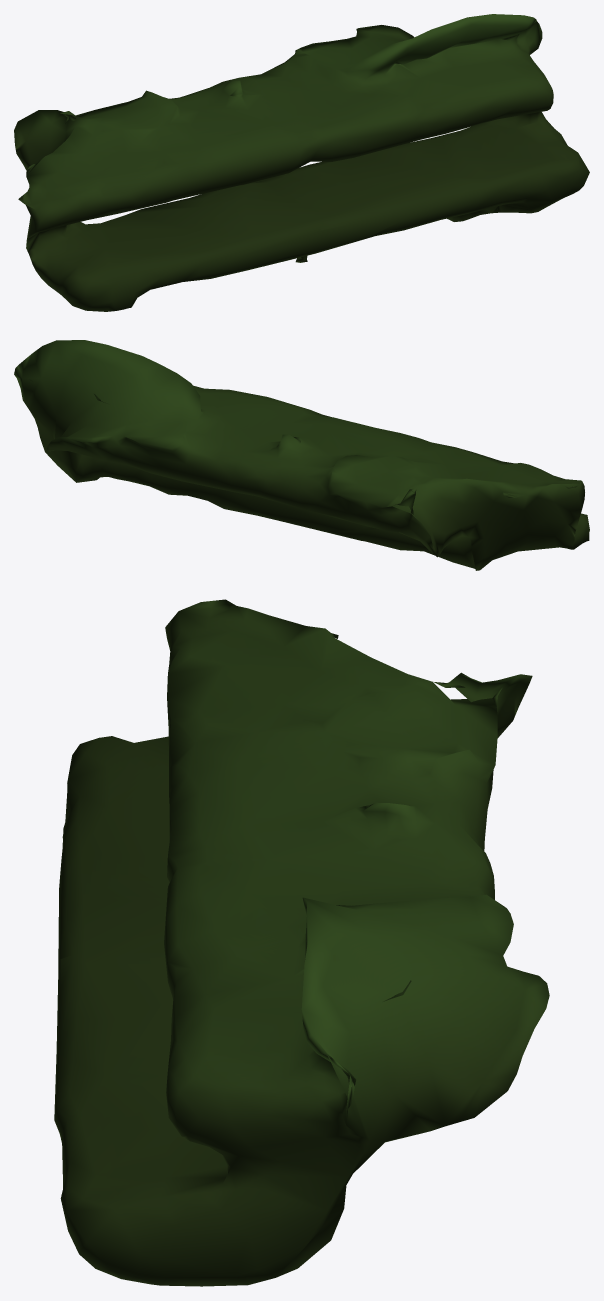
Rendered from timber-walkway-b.glb.
The picture shows the model from 3 angles, top to bottom: view 1: azimuth 30°, elevation 25°; view 2: azimuth 150°, elevation 25°; view 3: azimuth 270°, elevation 25°; orthographic projection. The views are drawn at different scales.
Parts seen in each view (by area): view 1: timber-walkway-b; view 2: timber-walkway-b; view 3: timber-walkway-b.
Part boxes in pixels (x1,y1,x2,y2): timber-walkway-b: [14, 14, 589, 311]; timber-walkway-b: [14, 340, 589, 570]; timber-walkway-b: [54, 599, 549, 1286].
Size of the model in its own units: 0.00979 by 0.00267 by 0.00396.
